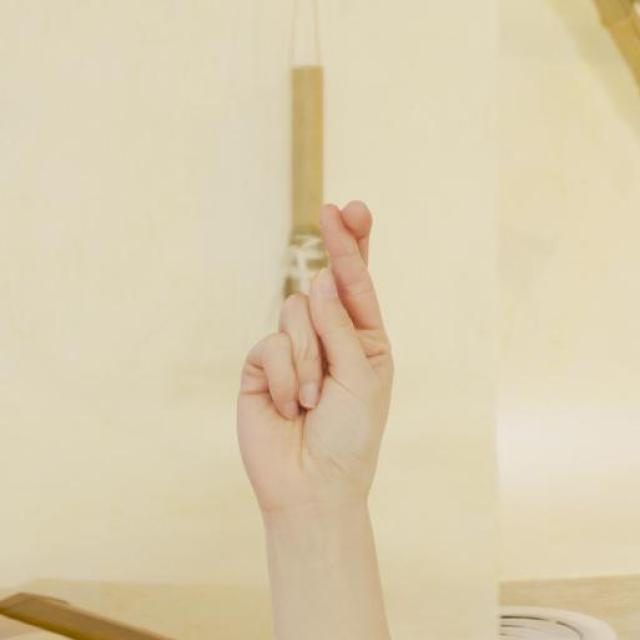R: (232, 194, 399, 527)
